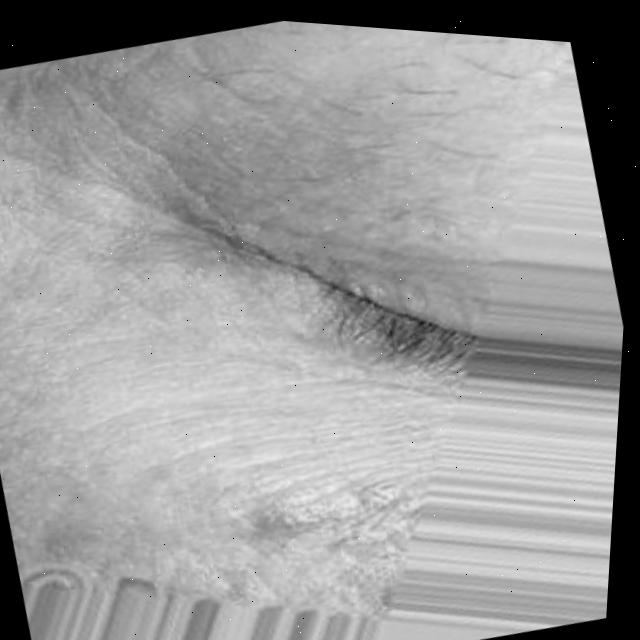Rosacea: (24, 442, 398, 634)
